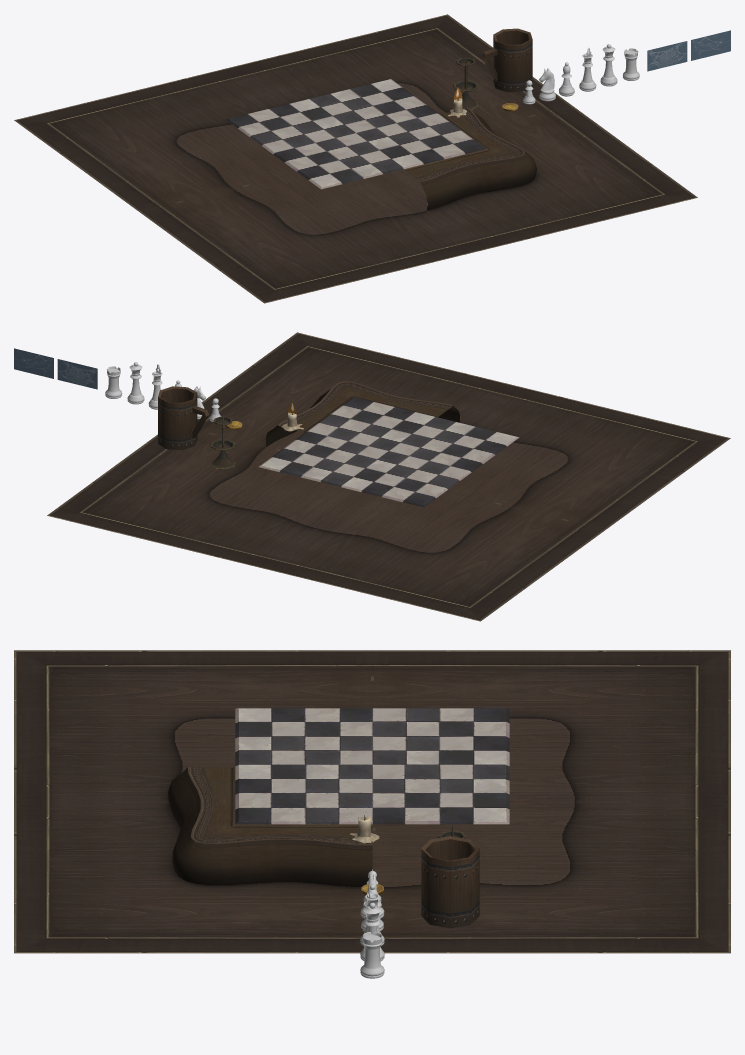
Rendered from f_1155_porps.FBX.
3 views of the same model, one above another, from view 1: azimuth 30°, elevation 25°; view 2: azimuth 150°, elevation 25°; view 3: azimuth 270°, elevation 25° (orthographic). The views are drawn at different scales.
Parts seen in each view (by area): view 1: f_wooddesk, f_deskface, f_desk, f_woodcup, f_cobweb_a, f_cobweb_b, f_candlestick; view 2: f_wooddesk, f_deskface, f_desk, f_woodcup, f_cobweb_a, f_cobweb_b, f_candlestick; view 3: f_wooddesk, f_deskface, f_desk, f_woodcup, f_Piece_f.
Part boxes in pixels (bbox=[...]): f_wooddesk: bbox=[14, 14, 697, 303]; f_deskface: bbox=[225, 79, 486, 189]; f_desk: bbox=[404, 107, 536, 210]; f_woodcup: bbox=[481, 28, 532, 92]; f_cobweb_a: bbox=[647, 41, 687, 71]; f_cobweb_b: bbox=[691, 30, 730, 60]; f_candlestick: bbox=[453, 55, 478, 109]; f_wooddesk: bbox=[47, 332, 730, 621]; f_deskface: bbox=[258, 397, 519, 507]; f_desk: bbox=[265, 381, 460, 446]; f_woodcup: bbox=[158, 386, 209, 450]; f_cobweb_a: bbox=[57, 359, 97, 389]; f_cobweb_b: bbox=[14, 348, 53, 378]; f_candlestick: bbox=[210, 413, 235, 468]; f_wooddesk: bbox=[14, 650, 730, 953]; f_deskface: bbox=[235, 708, 509, 824]; f_desk: bbox=[168, 767, 372, 887]; f_woodcup: bbox=[421, 836, 479, 928]; f_Piece_f: bbox=[360, 932, 384, 978].
Bounding box in the file's own units: 8868 × 828 × 6500.
